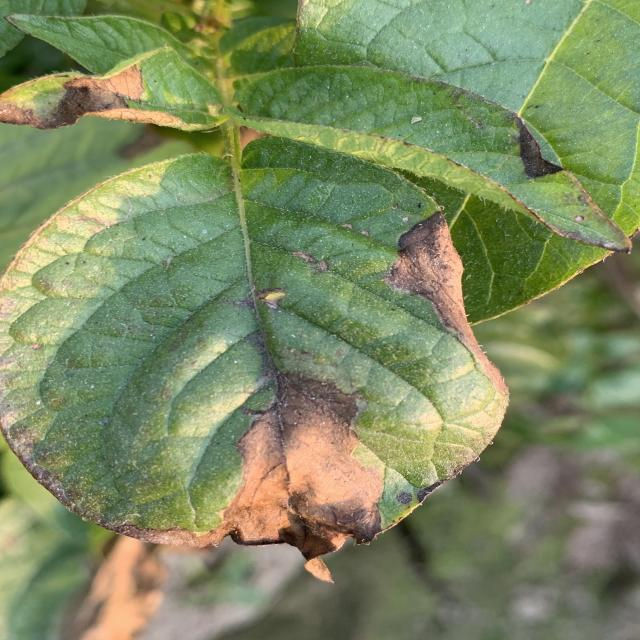lateblight: (117, 371, 383, 581), (385, 211, 507, 394), (0, 54, 177, 129), (515, 115, 563, 179)
